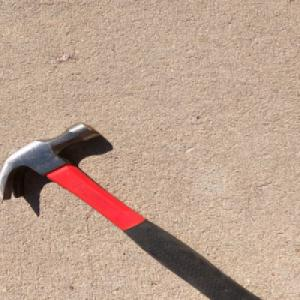Hammer: (0, 121, 268, 300)
